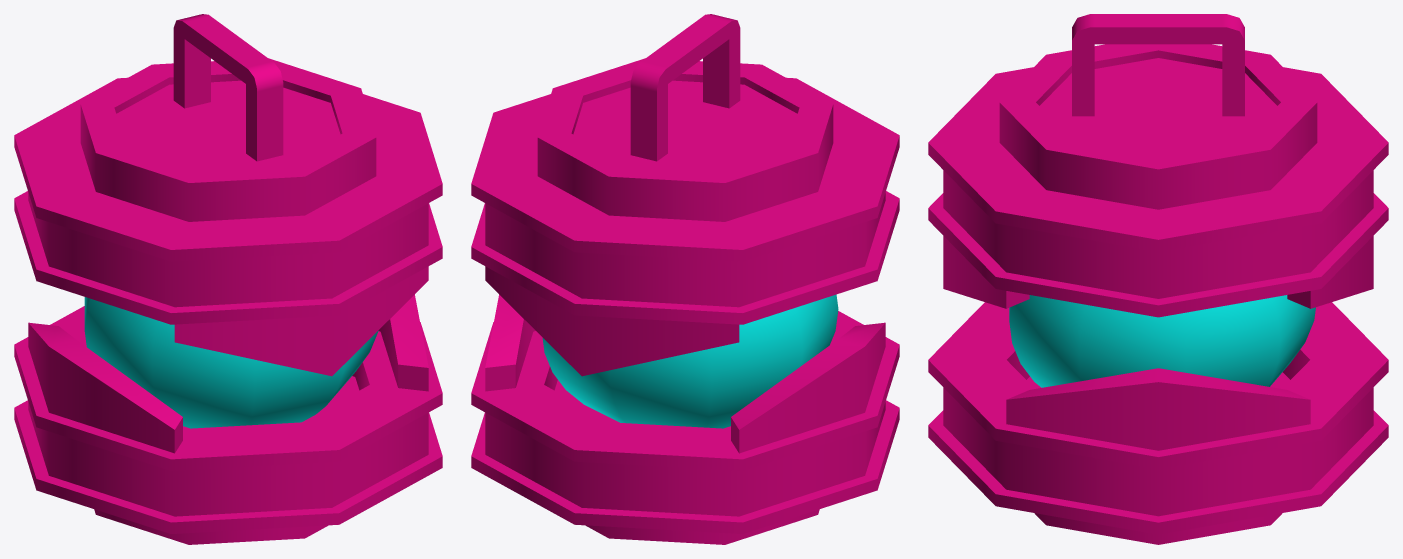
File: OBJ_Generator.fbx
3 views of the same model, side by side, from view 1: azimuth 30°, elevation 25°; view 2: azimuth 150°, elevation 25°; view 3: azimuth 270°, elevation 25° (orthographic). The views are drawn at different scales.
Parts seen in each view (by area): view 1: OBJ_Generator; view 2: OBJ_Generator; view 3: OBJ_Generator.
Part boxes in pixels (x1,y1,x2,y2): OBJ_Generator: [14, 14, 442, 544]; OBJ_Generator: [471, 14, 899, 544]; OBJ_Generator: [928, 14, 1388, 544].
Bounding box in the file's own units: 2 × 2.2 × 2.
